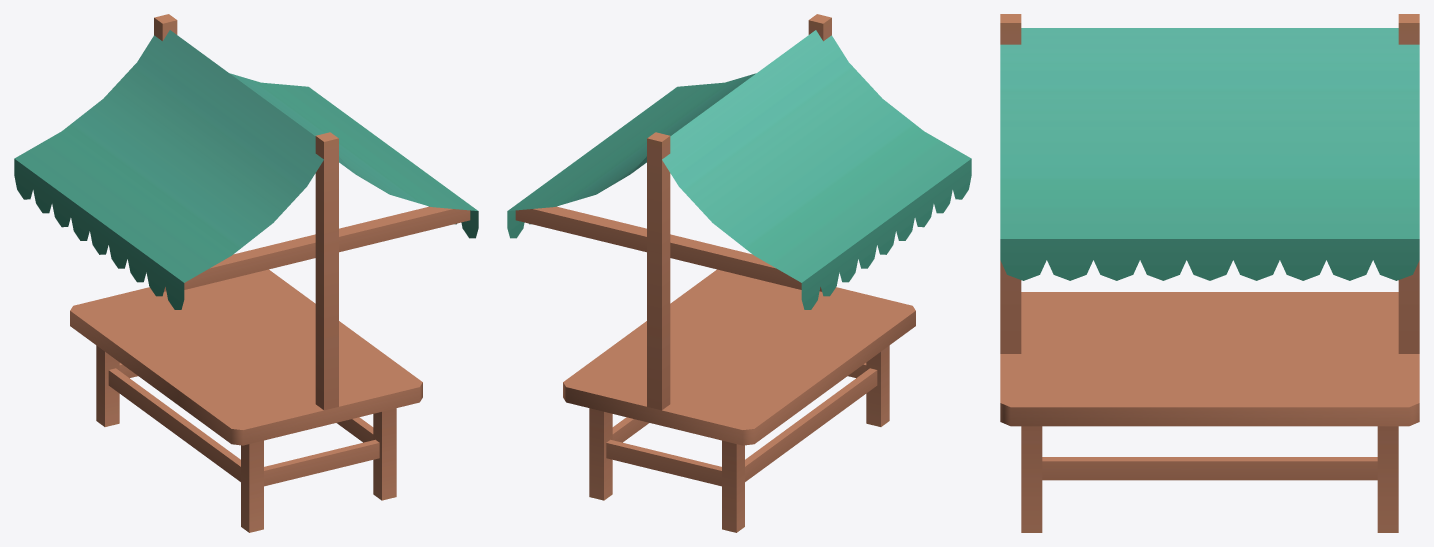
The model's file is stall-green.glb.
The picture shows the model from 3 angles, left to right: view 1: azimuth 30°, elevation 25°; view 2: azimuth 150°, elevation 25°; view 3: azimuth 270°, elevation 25°; orthographic projection. The views are drawn at different scales.
Parts seen in each view (by area): view 1: stall-green; view 2: stall-green; view 3: stall-green.
Boxes of the visible parts, x1,y1,x2,y2 form: stall-green: [14, 14, 478, 532]; stall-green: [507, 14, 971, 532]; stall-green: [1000, 14, 1419, 532].
Bounding box in the file's own units: 1 × 1.24 × 1.
Materials: 1 (1 with a texture image).
